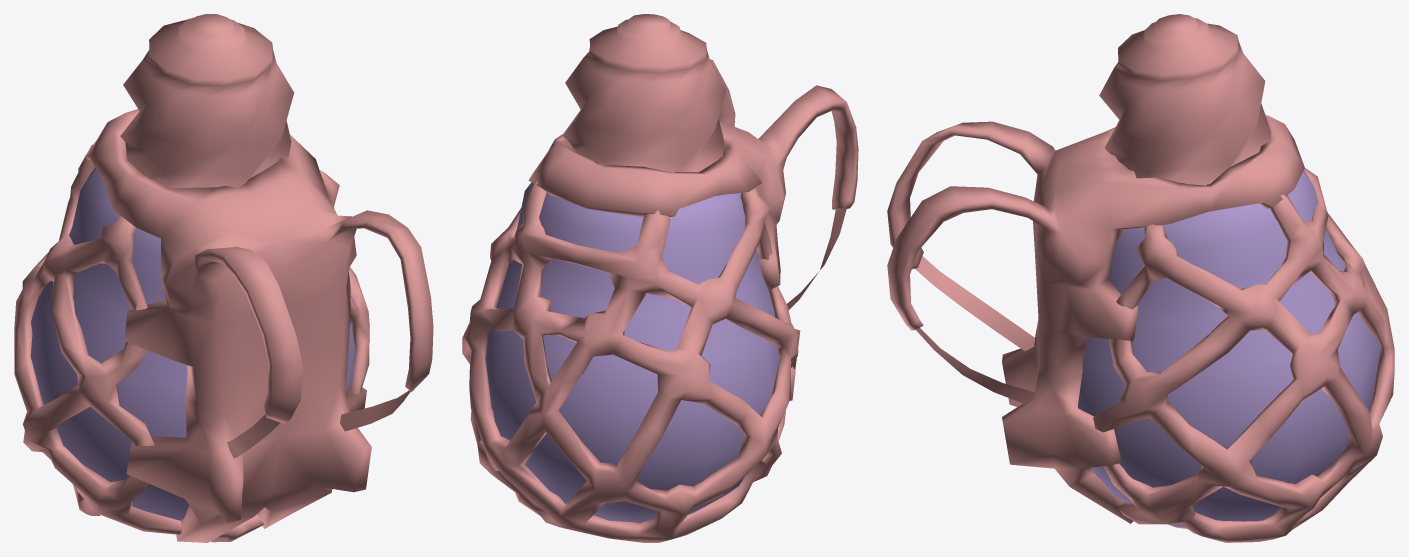
Rendered from SM_BigOlBackPack.FBX.
3 views of the same model, side by side, from view 1: azimuth 30°, elevation 25°; view 2: azimuth 150°, elevation 25°; view 3: azimuth 270°, elevation 25° (orthographic). The views are drawn at different scales.
Visible parts, largest first — view 1: object 1, Bulb; view 2: object 1, Bulb; view 3: object 1, Bulb.
Boxes of the visible parts, <box> form: object 1: <box>14,14,433,542</box>; Bulb: <box>30,167,355,520</box>; object 1: <box>462,14,858,542</box>; Bulb: <box>485,182,779,523</box>; object 1: <box>887,14,1394,542</box>; Bulb: <box>1078,170,1381,527</box>.
Size of the model in its own units: 1.39 by 2.23 by 2.01.
